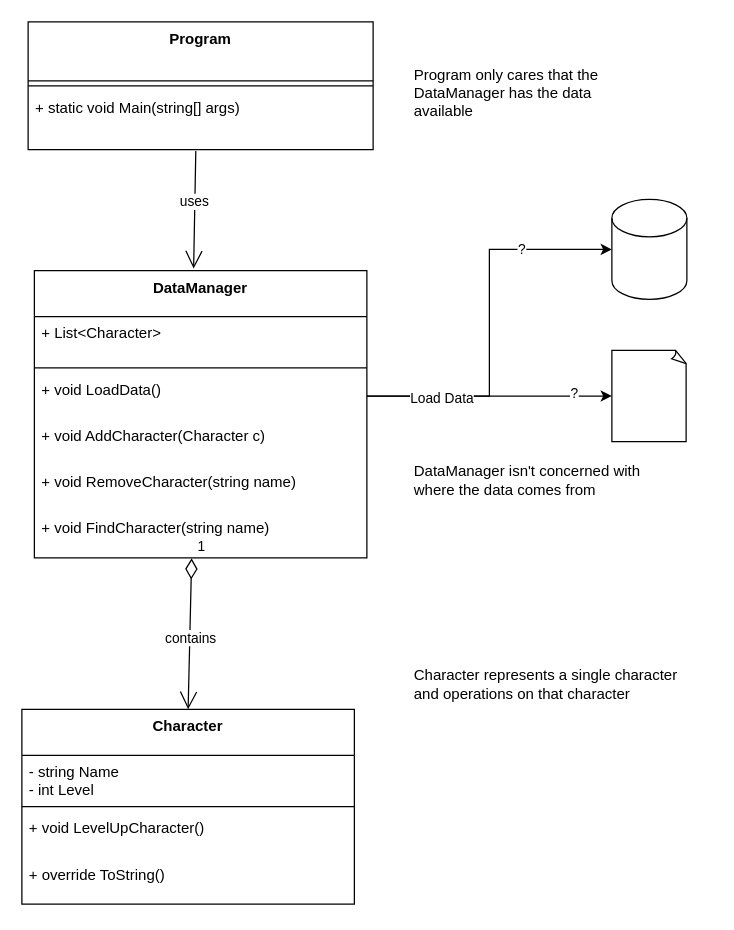
The diagram is 734 pixels wide and 930 high, and some of its shapes have lost their labels. Here are the shapes that lost their labels. From the top down, the box of each, then its label:
(611, 198, 687, 299): DB
(611, 349, 687, 442): File
